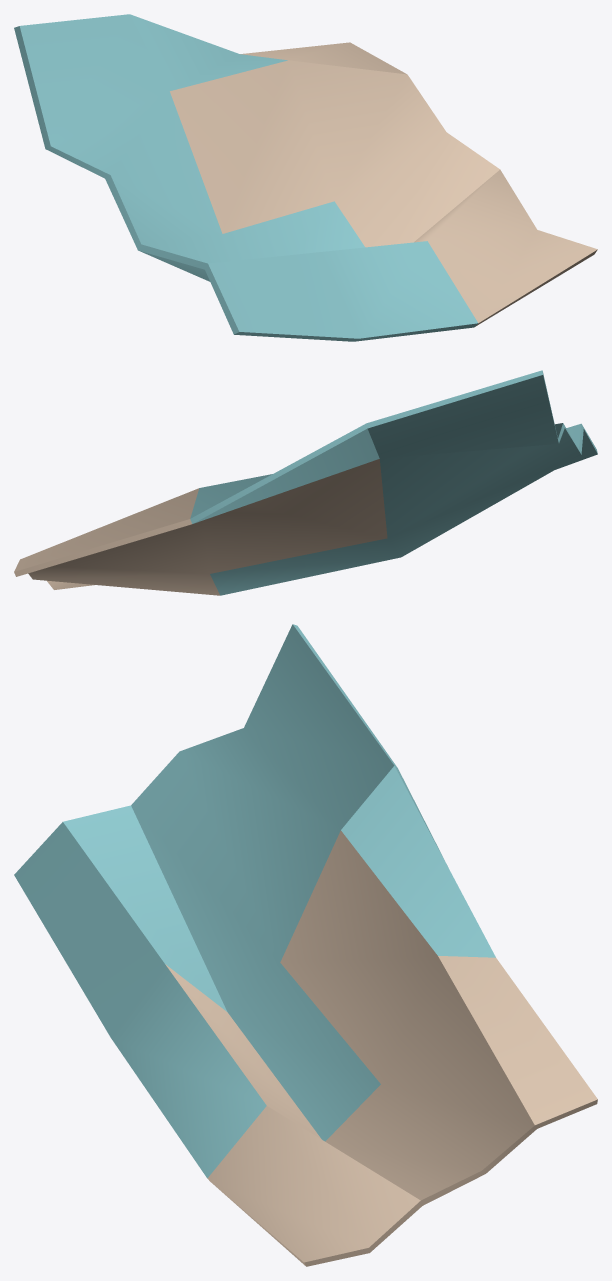
File: techo3.glb
3 renders of one model, top to bottom at view 1: azimuth 30°, elevation 25°; view 2: azimuth 150°, elevation 25°; view 3: azimuth 270°, elevation 25°, orthographic. The views are drawn at different scales.
Visible parts, largest first — view 1: Plane.005; view 2: Plane.005; view 3: Plane.005.
Part boxes in pixels (<box>): Plane.005: <box>14,14,597,341</box>; Plane.005: <box>14,370,597,595</box>; Plane.005: <box>14,624,597,1266</box>.
Size of the model in its own units: 11.19 by 6.84 by 9.89.
